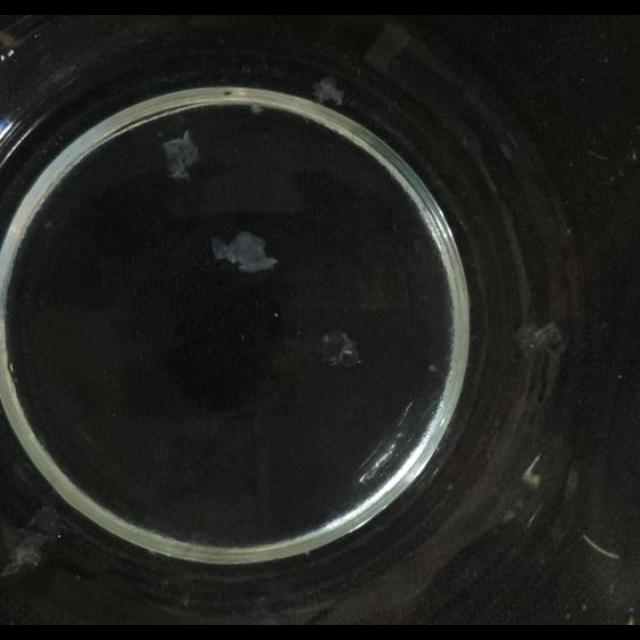Fibre: (210, 230, 280, 272), (1, 524, 49, 576), (516, 320, 564, 360), (162, 130, 200, 178), (586, 148, 630, 186), (320, 329, 362, 368), (311, 76, 345, 106), (250, 103, 266, 115)
